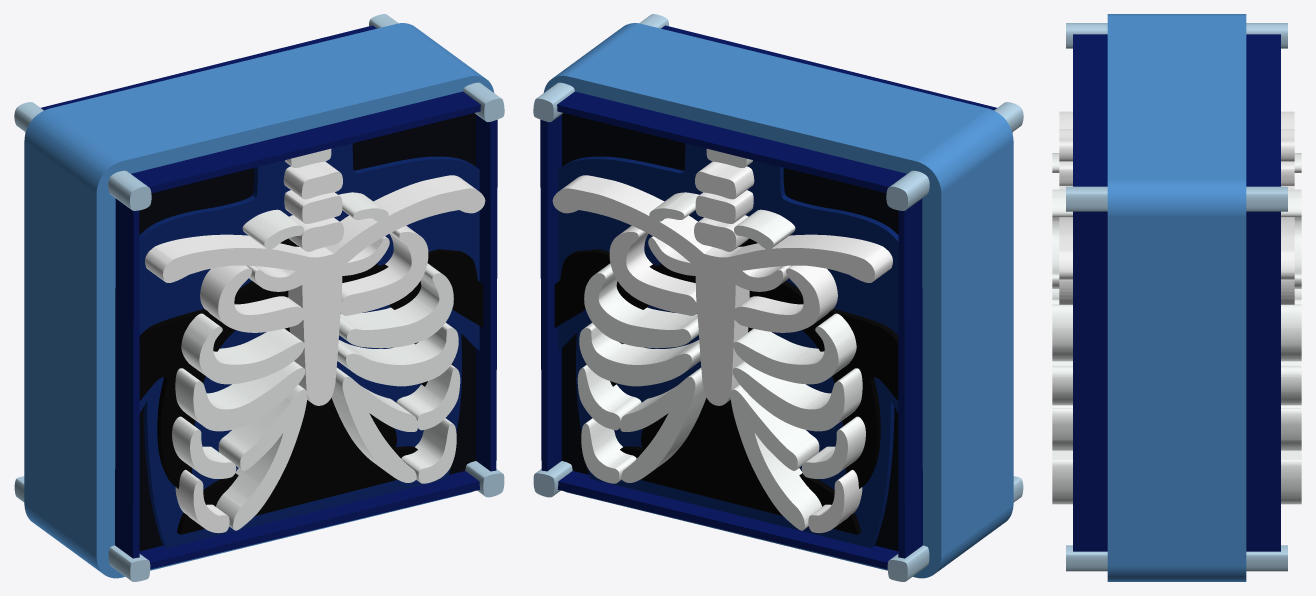
3 renders of one model, left to right at view 1: azimuth 30°, elevation 25°; view 2: azimuth 150°, elevation 25°; view 3: azimuth 270°, elevation 25°, orthographic. The views are drawn at different scales.
Visible parts, largest first — view 1: U+1FA7B_layer00_obj00, U+1FA7B_layer05_obj00, U+1FA7B_layer07_obj00, U+1FA7B_layer02_obj00, U+1FA7B_layer03_obj00, U+1FA7B_layer01_obj00, U+1FA7B_layer08_obj02, U+1FA7B_layer08_obj07, U+1FA7B_layer08_obj04, U+1FA7B_layer08_obj08, U+1FA7B_layer08_obj03, U+1FA7B_layer08_obj10 (+13 smaller); view 2: U+1FA7B_layer00_obj00, U+1FA7B_layer05_obj00, U+1FA7B_layer07_obj00, U+1FA7B_layer02_obj00, U+1FA7B_layer03_obj00, U+1FA7B_layer01_obj00, U+1FA7B_layer08_obj02, U+1FA7B_layer08_obj07, U+1FA7B_layer08_obj04, U+1FA7B_layer08_obj08, U+1FA7B_layer08_obj03, U+1FA7B_layer08_obj10 (+13 smaller); view 3: U+1FA7B_layer00_obj00, U+1FA7B_layer05_obj00, U+1FA7B_layer07_obj00, U+1FA7B_layer08_obj08, U+1FA7B_layer06_obj00, U+1FA7B_layer08_obj00, U+1FA7B_layer08_obj10, U+1FA7B_layer06_obj01, U+1FA7B_layer08_obj05, U+1FA7B_layer06_obj03, U+1FA7B_layer08_obj07, U+1FA7B_layer07_obj03 (+3 smaller).
Part boxes in pixels (x1=…): U+1FA7B_layer00_obj00: x1=24, y1=23, x2=494, y2=578; U+1FA7B_layer05_obj00: x1=25, y1=25, x2=497, y2=569; U+1FA7B_layer07_obj00: x1=145, y1=175, x2=485, y2=405; U+1FA7B_layer02_obj00: x1=139, y1=143, x2=479, y2=547; U+1FA7B_layer03_obj00: x1=139, y1=238, x2=483, y2=534; U+1FA7B_layer01_obj00: x1=139, y1=113, x2=476, y2=551; U+1FA7B_layer08_obj02: x1=216, y1=384, x2=307, y2=530; U+1FA7B_layer08_obj07: x1=181, y1=313, x2=304, y2=384; U+1FA7B_layer08_obj04: x1=175, y1=361, x2=305, y2=431; U+1FA7B_layer08_obj08: x1=339, y1=263, x2=453, y2=348; U+1FA7B_layer08_obj03: x1=331, y1=367, x2=417, y2=482; U+1FA7B_layer08_obj10: x1=337, y1=322, x2=458, y2=386; U+1FA7B_layer00_obj00: x1=543, y1=23, x2=1013, y2=578; U+1FA7B_layer05_obj00: x1=540, y1=25, x2=1012, y2=569; U+1FA7B_layer07_obj00: x1=552, y1=175, x2=892, y2=405; U+1FA7B_layer02_obj00: x1=558, y1=143, x2=898, y2=547; U+1FA7B_layer03_obj00: x1=554, y1=238, x2=898, y2=534; U+1FA7B_layer01_obj00: x1=561, y1=113, x2=898, y2=551; U+1FA7B_layer08_obj02: x1=730, y1=384, x2=821, y2=530; U+1FA7B_layer08_obj07: x1=733, y1=313, x2=856, y2=384; U+1FA7B_layer08_obj04: x1=732, y1=361, x2=862, y2=431; U+1FA7B_layer08_obj08: x1=584, y1=263, x2=698, y2=348; U+1FA7B_layer08_obj03: x1=620, y1=367, x2=706, y2=482; U+1FA7B_layer08_obj10: x1=579, y1=322, x2=700, y2=386; U+1FA7B_layer00_obj00: x1=1107, y1=14, x2=1246, y2=581; U+1FA7B_layer05_obj00: x1=1073, y1=34, x2=1280, y2=551; U+1FA7B_layer07_obj00: x1=1059, y1=111, x2=1294, y2=304; U+1FA7B_layer08_obj08: x1=1052, y1=299, x2=1301, y2=361; U+1FA7B_layer06_obj00: x1=1066, y1=186, x2=1287, y2=211; U+1FA7B_layer08_obj00: x1=1052, y1=459, x2=1301, y2=504; U+1FA7B_layer08_obj10: x1=1052, y1=361, x2=1301, y2=405; U+1FA7B_layer06_obj01: x1=1066, y1=545, x2=1287, y2=571; U+1FA7B_layer08_obj05: x1=1052, y1=408, x2=1301, y2=450; U+1FA7B_layer06_obj03: x1=1066, y1=23, x2=1287, y2=48; U+1FA7B_layer08_obj07: x1=1052, y1=217, x2=1301, y2=288; U+1FA7B_layer07_obj03: x1=1059, y1=129, x2=1294, y2=161.
Bounding box in the file's own units: 0.3184 × 0.3183 × 0.18.
